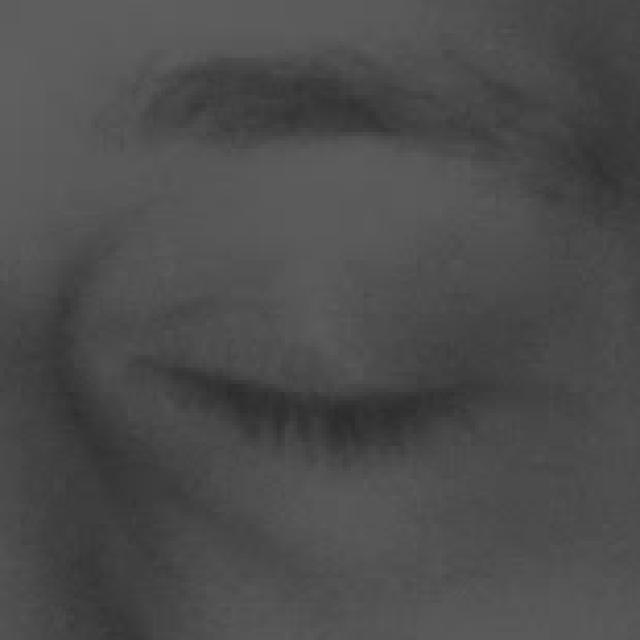Eyeclosed: (152, 245, 488, 563)
